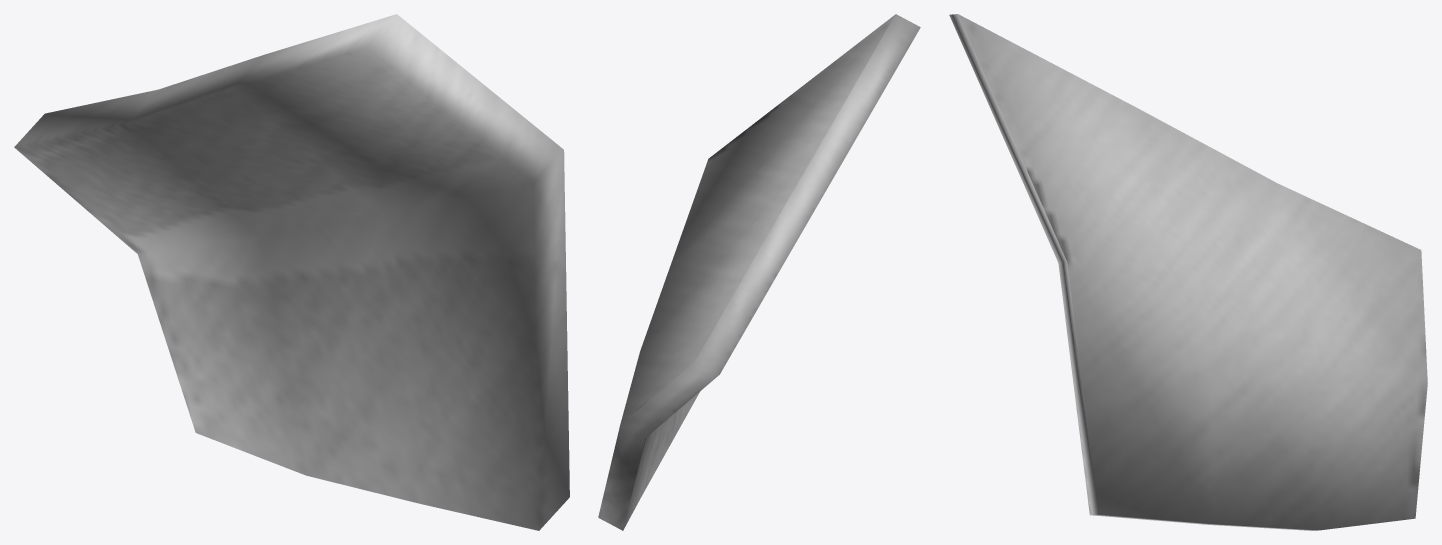
The model's file is ElipAla3.fbx.
3 renders of one model, left to right at view 1: azimuth 30°, elevation 25°; view 2: azimuth 150°, elevation 25°; view 3: azimuth 270°, elevation 25°, orthographic. The views are drawn at different scales.
Parts seen in each view (by area): view 1: Sphere.011; view 2: Sphere.011; view 3: Sphere.011.
Boxes of the visible parts, x1=… form: Sphere.011: x1=14, y1=14, x2=569, y2=530; Sphere.011: x1=598, y1=14, x2=920, y2=530; Sphere.011: x1=949, y1=14, x2=1427, y2=530.
Size of the model in its own units: 0.3858 by 0.8168 by 0.7704.
